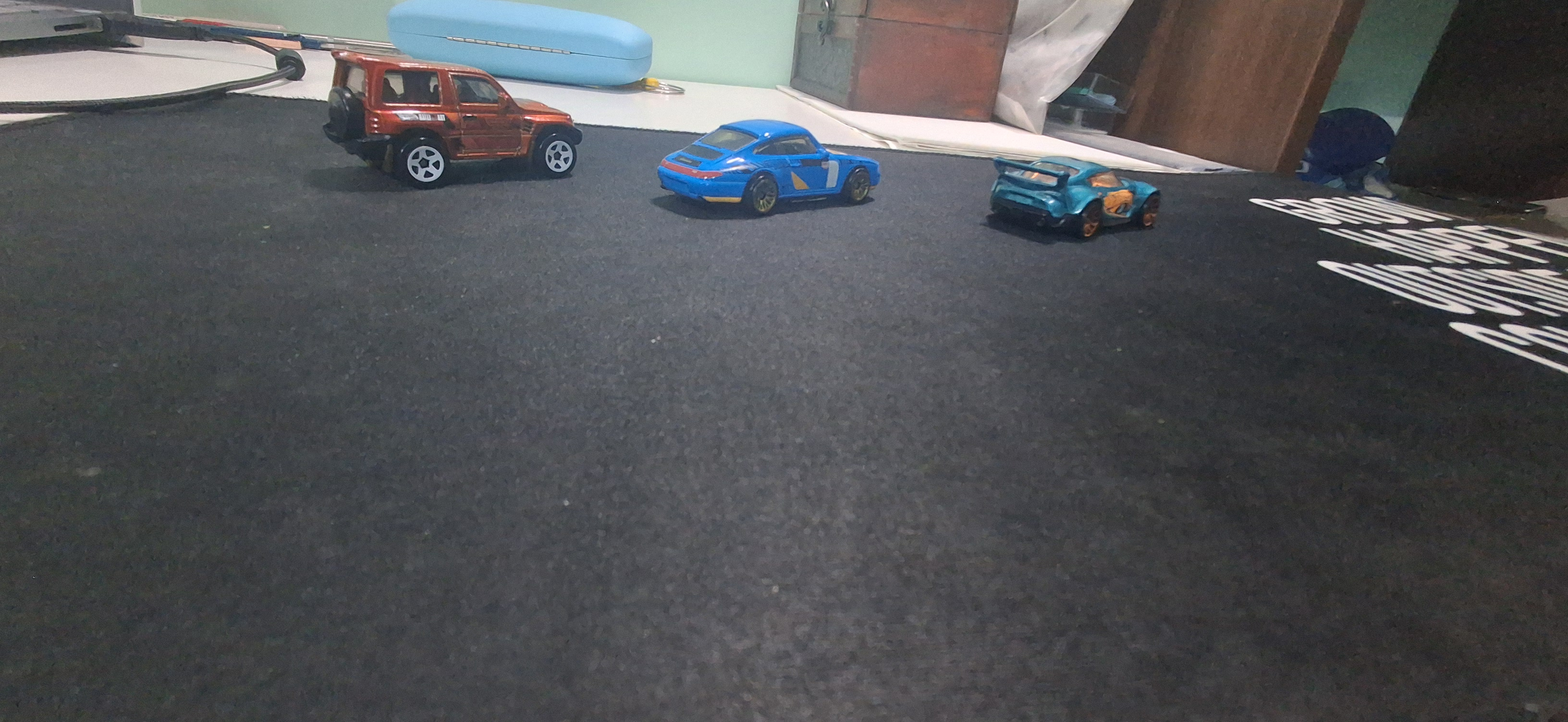Mitsubishi_Pajero_Evolution: (310, 36, 596, 210)
Porsche_Carrera: (647, 89, 892, 239)
Toyota_GR_Supra: (970, 122, 1179, 258)
